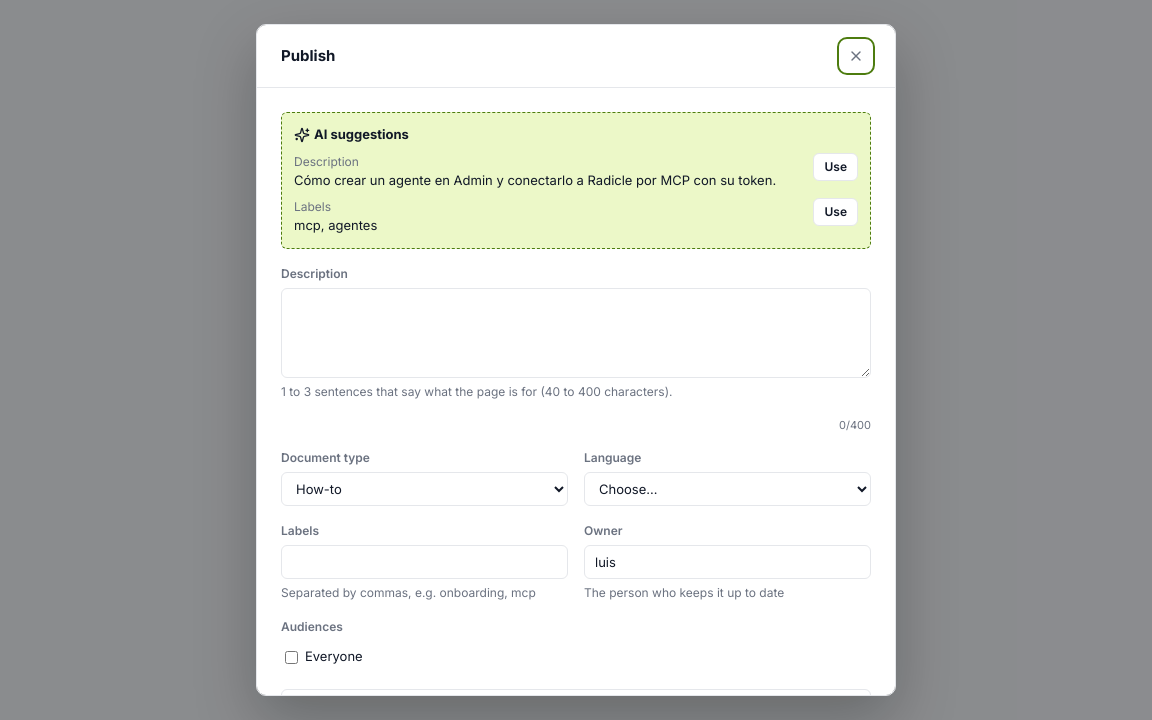
Test: AiSuggestions › proposes the empty fields and fills only the ones you accept
Expected: the element "AI suggestions" shows "Cómo crear un agente en Admin y conectarlo a Radicle por MCP con su token.", x1=294 y1=172 x2=776 y2=188
Expected: the element "AI suggestions" shows "mcp, agentes", x1=294 y1=217 x2=377 y2=233
Click the button with aria-label "Use the suggested Description" at (836, 166), box x1=814 y1=152 x2=858 y2=180
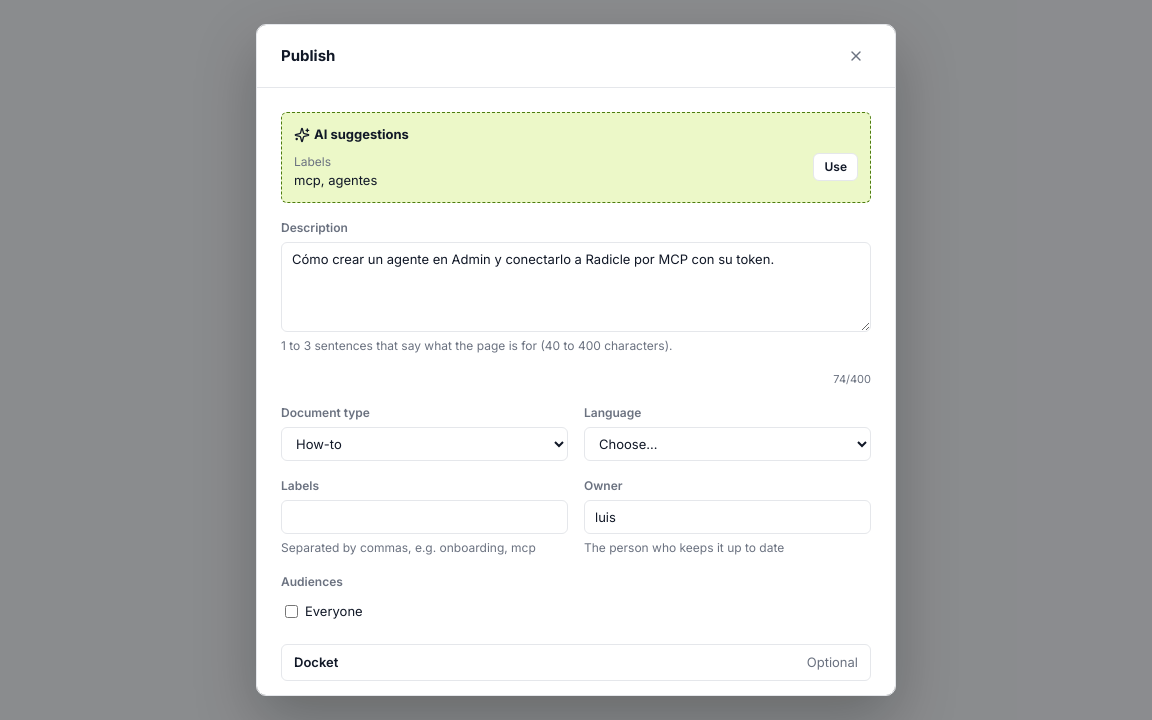
Expected: the text box labelled "Description" holds "Cómo crear un agente en Admin y conectarlo a Radicle por MCP con su token.", x1=281 y1=242 x2=871 y2=332
Expected: the element "AI suggestions" no longer shows "Cómo crear un agente en Admin y conectarlo a Radicle por MCP con su token.", x1=281 y1=112 x2=871 y2=203
Click the button with aria-label "Use the suggested Labels" at (836, 166), box x1=814 y1=152 x2=858 y2=180
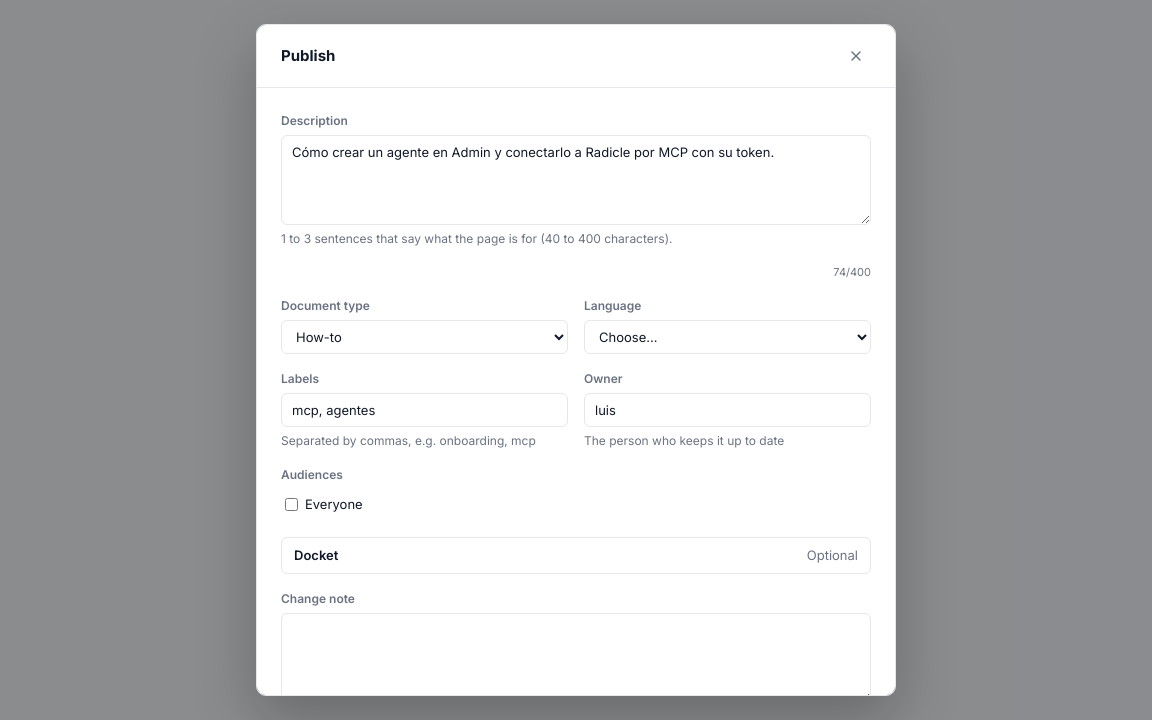
Expected: the field showing "mcp, agentes" is shown, x1=281 y1=392 x2=568 y2=426
Expected: the heading "AI suggestions" is gone
